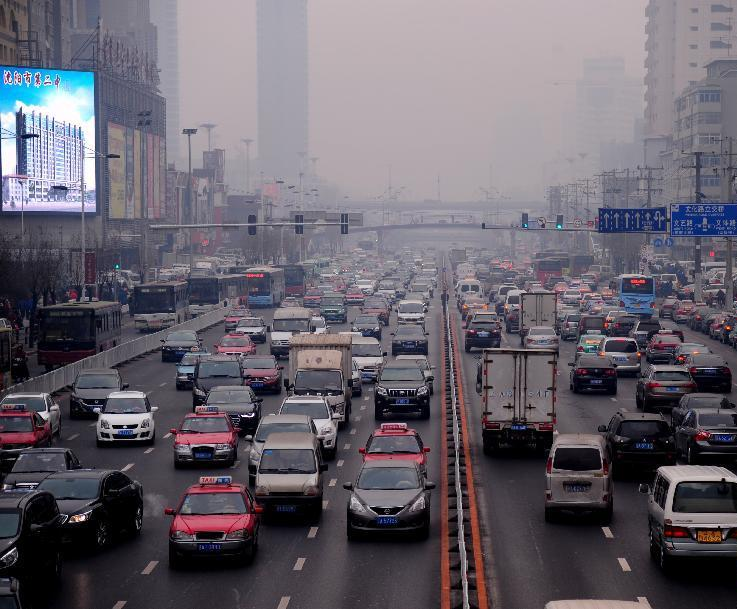bus: (478, 346, 558, 458), (287, 332, 356, 433), (34, 297, 126, 371), (130, 276, 190, 334), (183, 271, 251, 315), (268, 307, 315, 357), (517, 289, 559, 342), (608, 274, 656, 318), (239, 264, 282, 308), (278, 259, 316, 294), (528, 257, 562, 286), (566, 251, 595, 276), (356, 238, 376, 257)
car: (638, 463, 737, 573), (163, 473, 264, 563), (34, 468, 147, 547), (340, 458, 435, 546), (1, 488, 62, 606), (256, 433, 329, 526), (543, 433, 615, 520), (243, 413, 320, 490), (596, 410, 677, 477), (354, 420, 432, 486), (168, 406, 241, 467), (3, 447, 78, 504), (276, 396, 341, 459), (369, 362, 435, 424), (94, 390, 161, 447), (673, 406, 737, 461), (188, 355, 251, 405), (67, 367, 131, 415), (2, 402, 50, 465), (2, 392, 61, 443), (205, 386, 265, 433), (635, 364, 695, 409), (673, 392, 733, 433), (565, 354, 622, 396), (233, 352, 286, 396), (593, 336, 644, 378), (394, 352, 439, 398), (683, 354, 731, 394), (322, 351, 362, 396), (347, 334, 383, 382), (160, 330, 202, 365), (175, 352, 214, 389), (646, 326, 685, 362), (213, 330, 255, 363), (669, 342, 713, 373), (462, 318, 503, 351), (390, 321, 431, 354), (521, 325, 560, 355), (394, 298, 429, 331), (317, 290, 349, 325), (629, 318, 664, 349), (606, 312, 644, 340), (505, 304, 537, 337), (573, 313, 607, 344), (558, 310, 590, 342), (232, 317, 267, 343), (302, 311, 332, 341), (453, 279, 484, 307), (358, 298, 391, 324), (223, 305, 255, 331), (350, 313, 385, 336), (472, 310, 500, 338), (452, 259, 477, 289), (504, 288, 531, 314), (655, 295, 684, 319), (669, 298, 696, 323), (696, 280, 730, 299), (688, 304, 713, 329), (402, 291, 428, 315), (717, 312, 737, 343), (700, 309, 724, 334), (700, 260, 727, 282), (460, 296, 489, 316), (278, 294, 302, 318), (494, 283, 519, 305), (376, 280, 397, 306), (675, 280, 711, 295), (577, 291, 603, 311), (301, 286, 327, 306), (668, 259, 702, 274), (409, 279, 432, 301), (587, 262, 612, 281), (343, 286, 366, 304), (660, 271, 680, 291), (484, 282, 505, 301), (450, 246, 469, 267), (353, 277, 374, 296), (317, 267, 338, 286), (563, 287, 584, 302), (474, 264, 492, 280), (420, 262, 439, 277), (340, 270, 355, 283)
